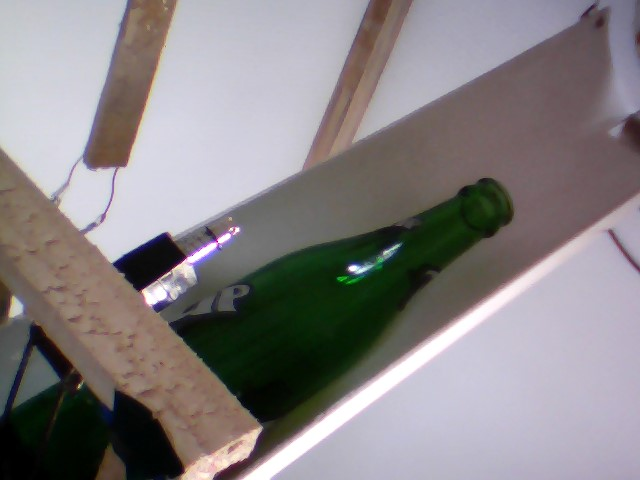vidrio: (180, 167, 524, 418)
